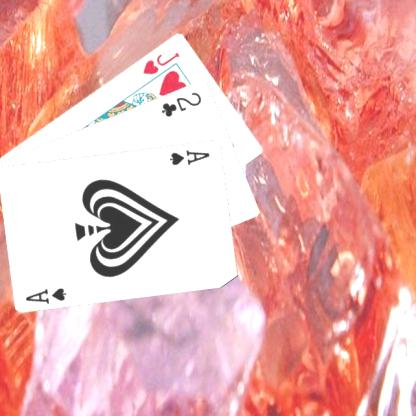2C: (159, 88, 203, 119)
AS: (22, 285, 68, 305), (167, 146, 211, 166)
JH: (140, 48, 181, 76)
